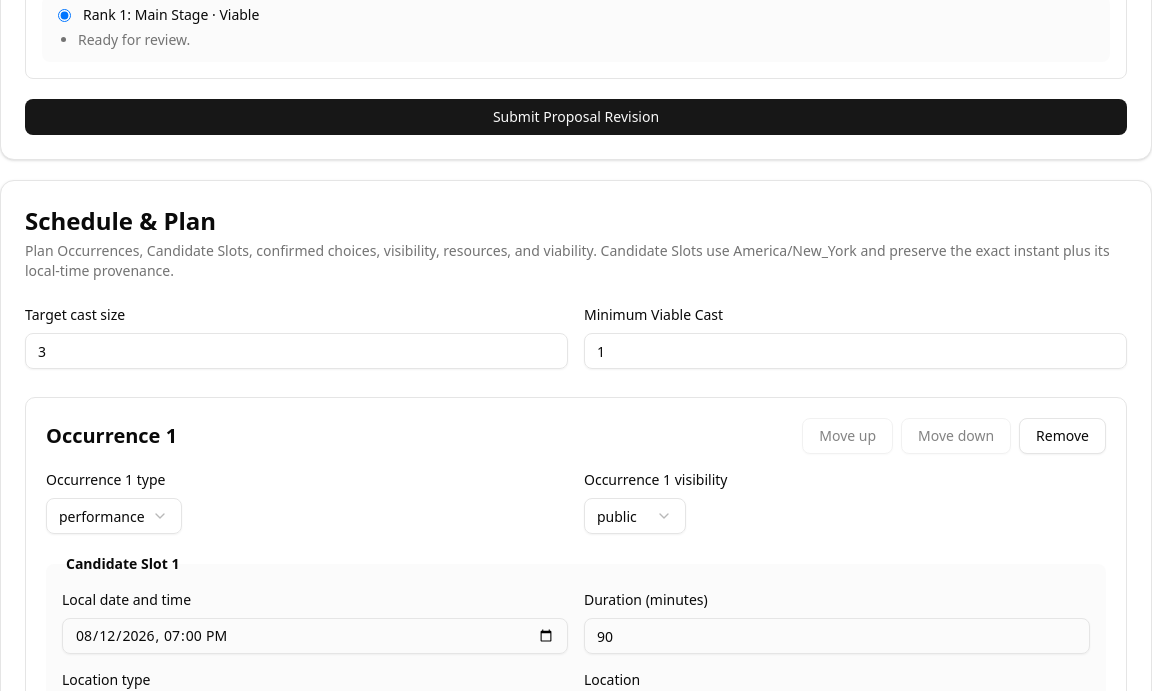
Test: ProposalPreparation › enters a stale state and blocks submission when refresh fails after a save
(page scrolled)
Step 1. Replace the text in the number field labelled "Target cast size" with "4" → {"x": 296, "y": 351}, box [25,333,568,369]
(page scrolled)
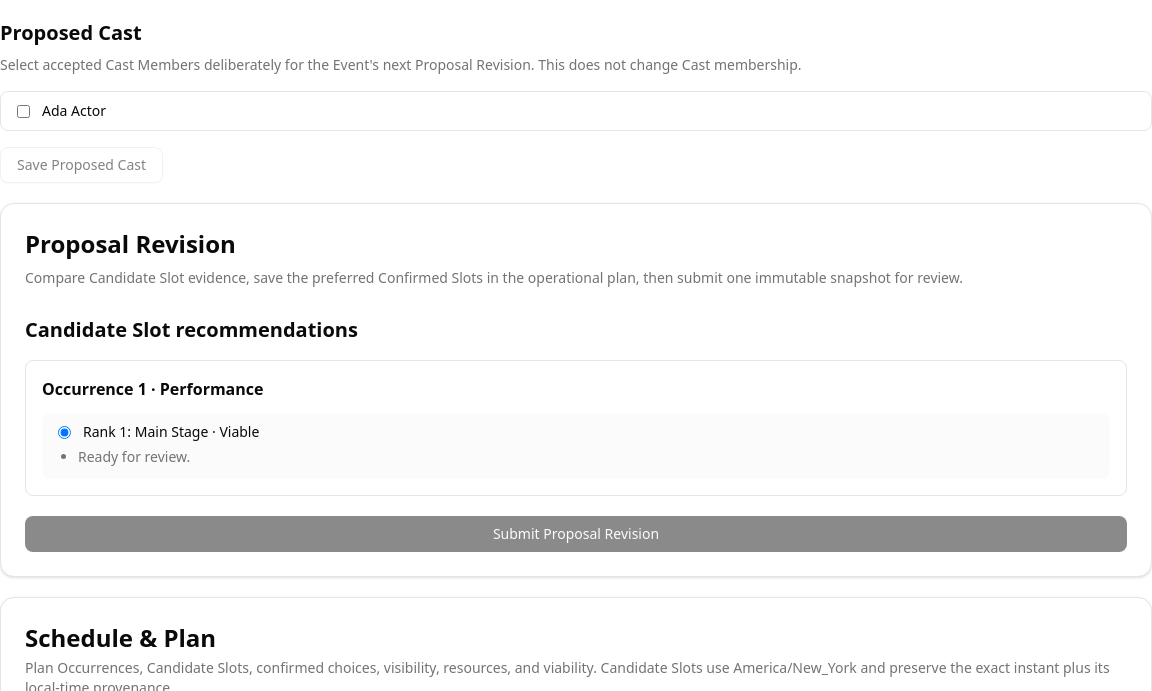
Step 2. Click the checkbox labelled "Ada Actor" → {"x": 24, "y": 111}, box [17,104,30,118]
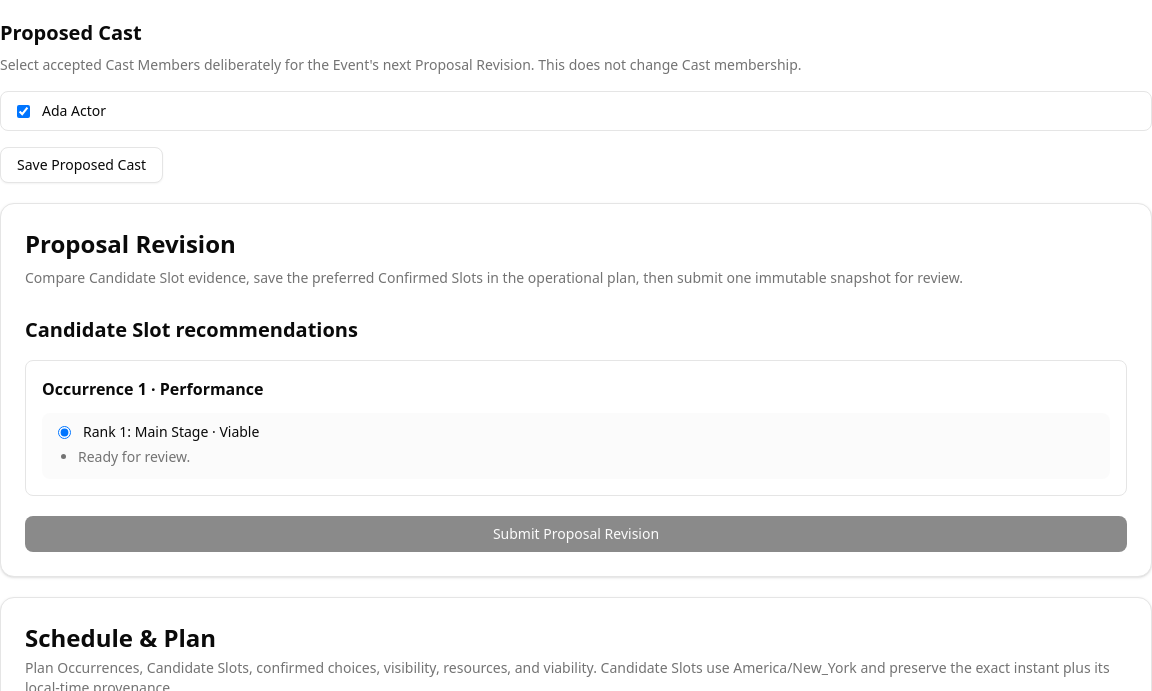
Step 3. Click the button "Save Proposed Cast" → {"x": 82, "y": 165}, box [0,147,163,183]
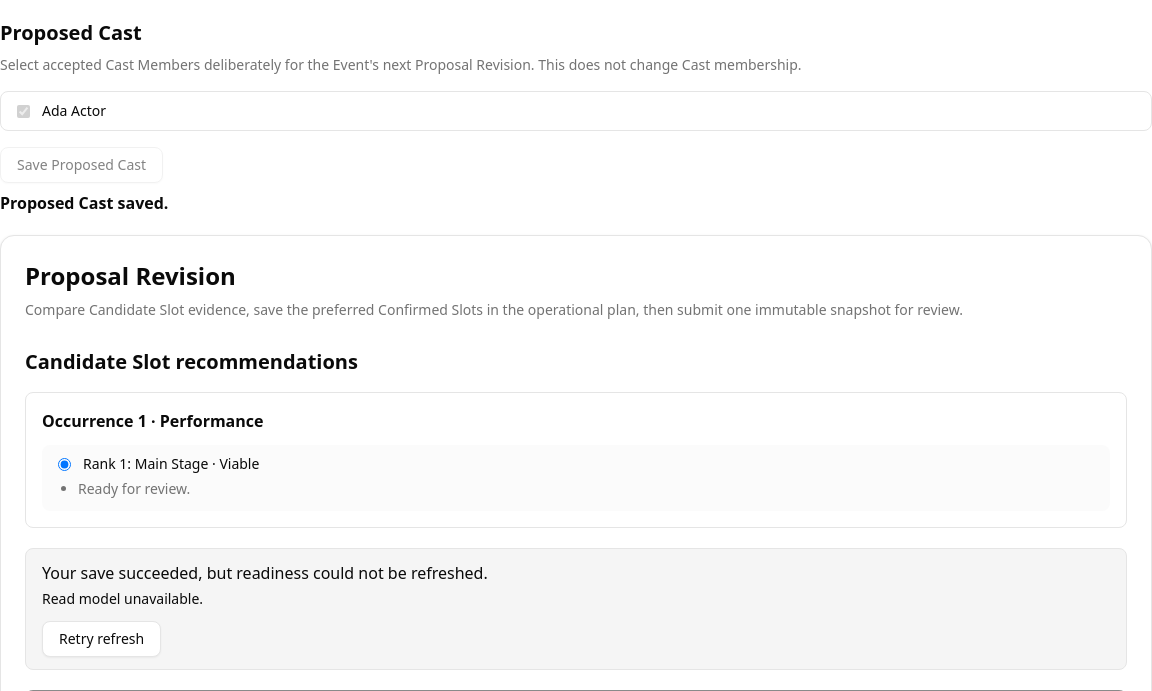
Expected: the text "Your save succeeded, but readiness could not be refreshed." is shown, [42,562,488,584]
Expected: the checkbox labelled "Ada Actor" is disabled, [17,104,30,118]
Step 4. Click the button "Retry refresh" → {"x": 102, "y": 639}, box [42,621,161,657]
(page scrolled)
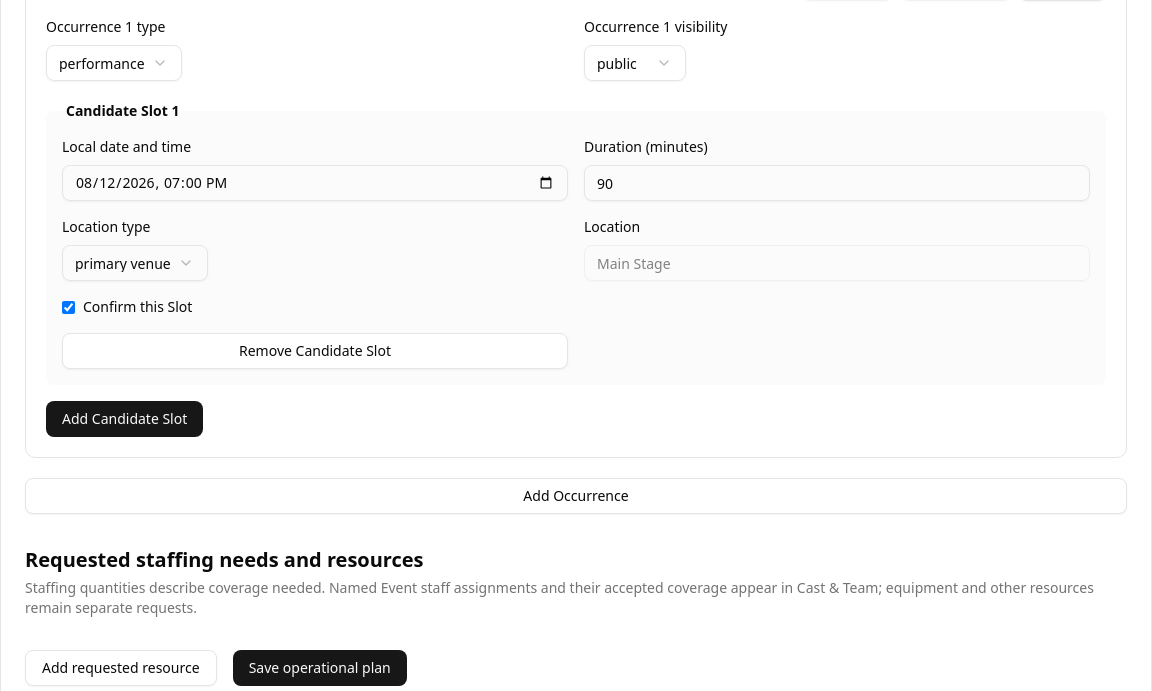
Expected: the button "Retry refresh" is gone
Expected: the button "Save operational plan" is enabled, [233,650,407,686]
